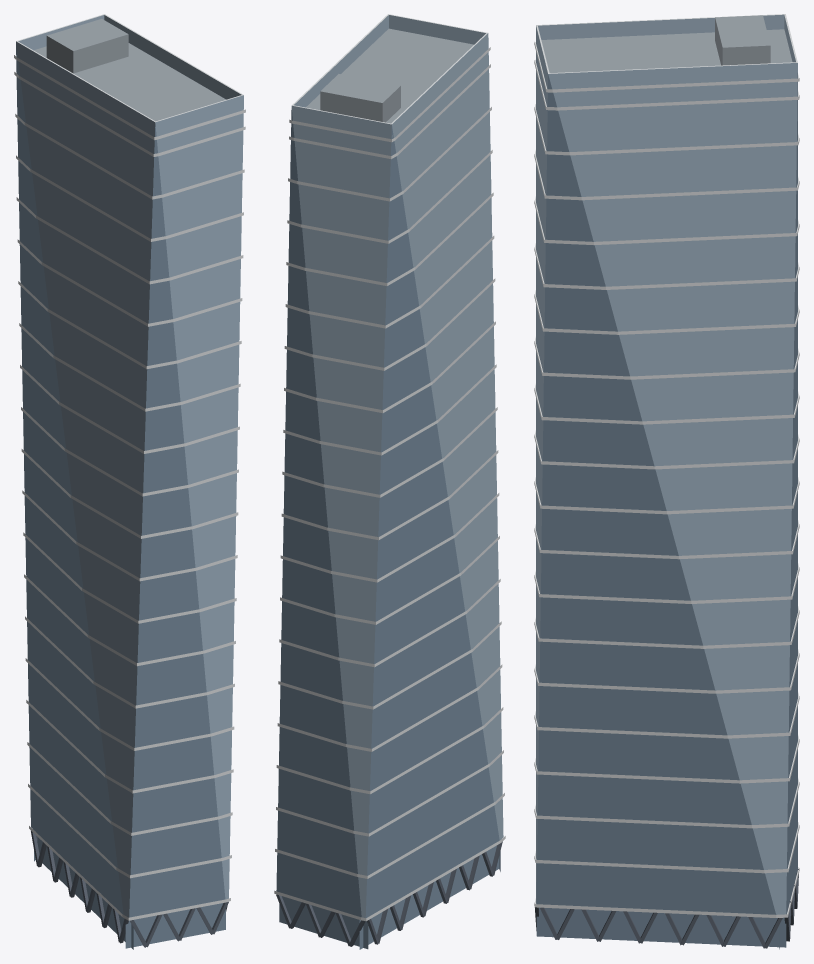
The model's file is mexico-city-chapultepec-uno.glb.
3 views of the same model, side by side, from view 1: azimuth 30°, elevation 25°; view 2: azimuth 150°, elevation 25°; view 3: azimuth 270°, elevation 25° (orthographic). The views are drawn at different scales.
Visible parts, largest first — view 1: Chapultepec Uno; view 2: Chapultepec Uno; view 3: Chapultepec Uno.
Part boxes in pixels (left/top/right/bottom): Chapultepec Uno: left=14, top=14, right=245, bottom=949; Chapultepec Uno: left=274, top=14, right=505, bottom=949; Chapultepec Uno: left=534, top=14, right=799, bottom=949.
Bounding box in the file's own units: 36.25 × 244 × 66.19.
